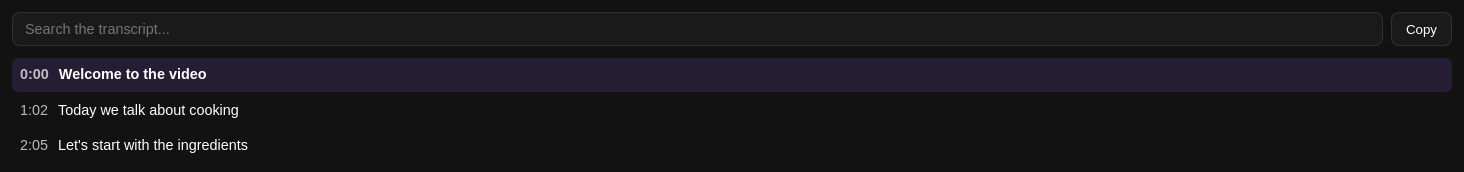
Test: TranscriptPanel › filters the lines by the search box
Type "cooking" into the search field with placeholder "Search the transcript..." at (697, 29), box [12,12,1383,46]
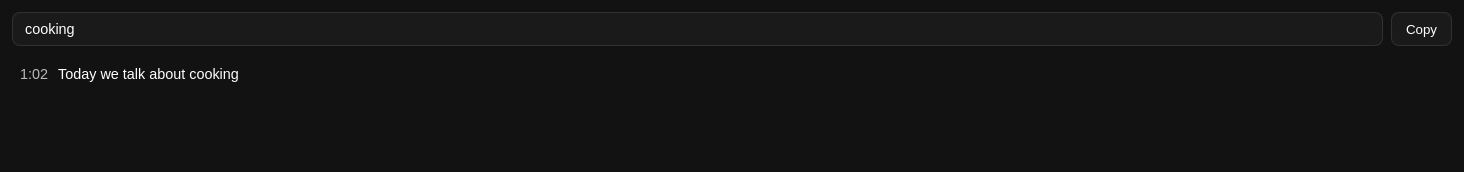
expect the number of buttons with class "transcript-line" is 1: met, box [12,58,1452,92]
